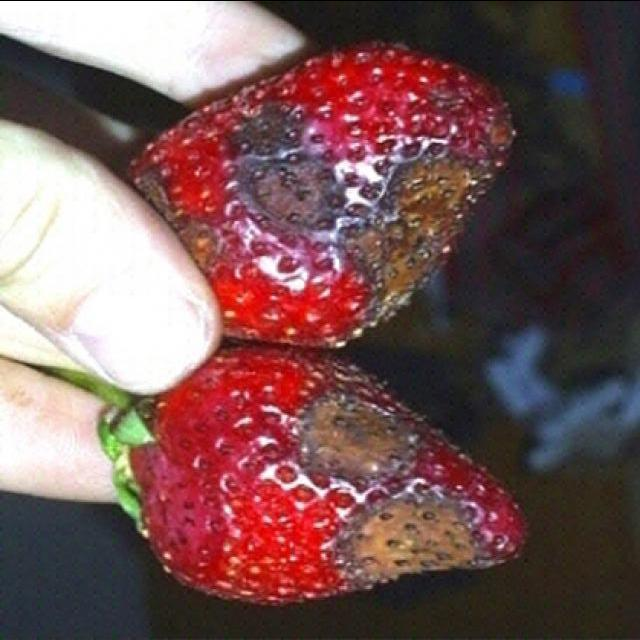Anthracnose Fruit Rot: (129, 41, 520, 336), (147, 341, 531, 605)
